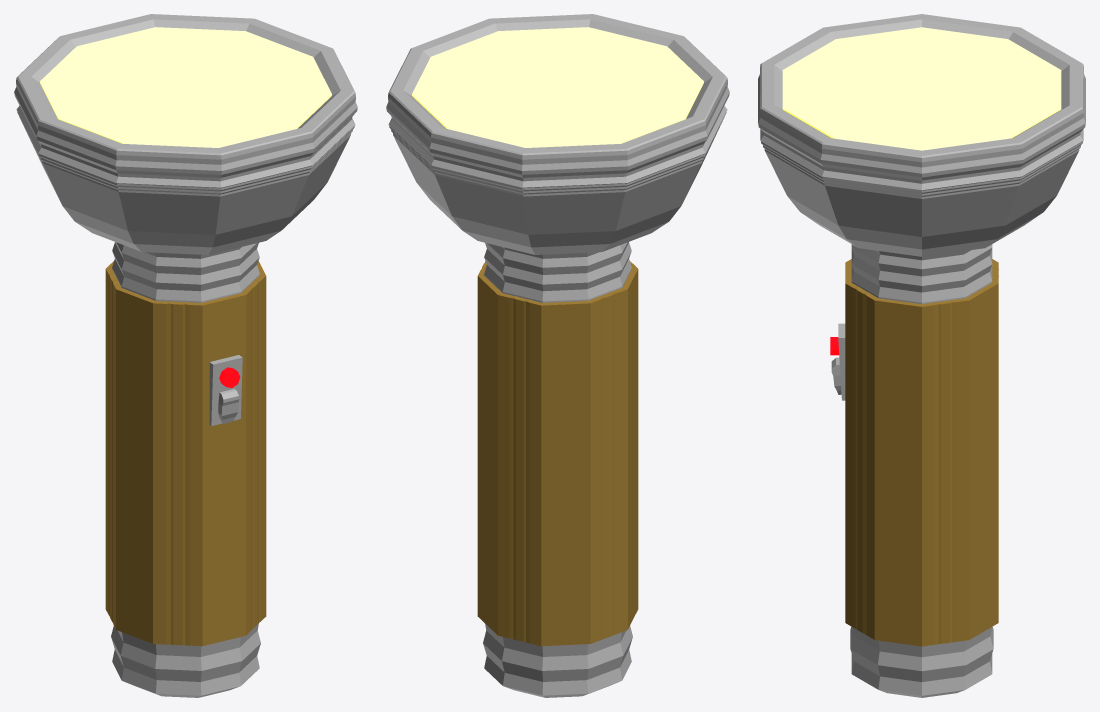
The model's file is Linterna-Untitled.fbx.
3 renders of one model, left to right at view 1: azimuth 30°, elevation 25°; view 2: azimuth 150°, elevation 25°; view 3: azimuth 270°, elevation 25°, orthographic.
Parts seen in each view (by area): view 1: Cylinder.001; view 2: Cylinder.001; view 3: Cylinder.001.
Part boxes in pixels (<box>): Cylinder.001: <box>14,14,357,697</box>; Cylinder.001: <box>386,14,729,697</box>; Cylinder.001: <box>758,14,1085,697</box>.
Size of the model in its own units: 431 by 811 by 410.
